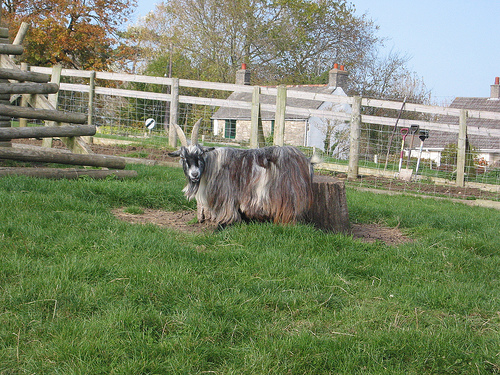goat: (169, 117, 313, 227)
